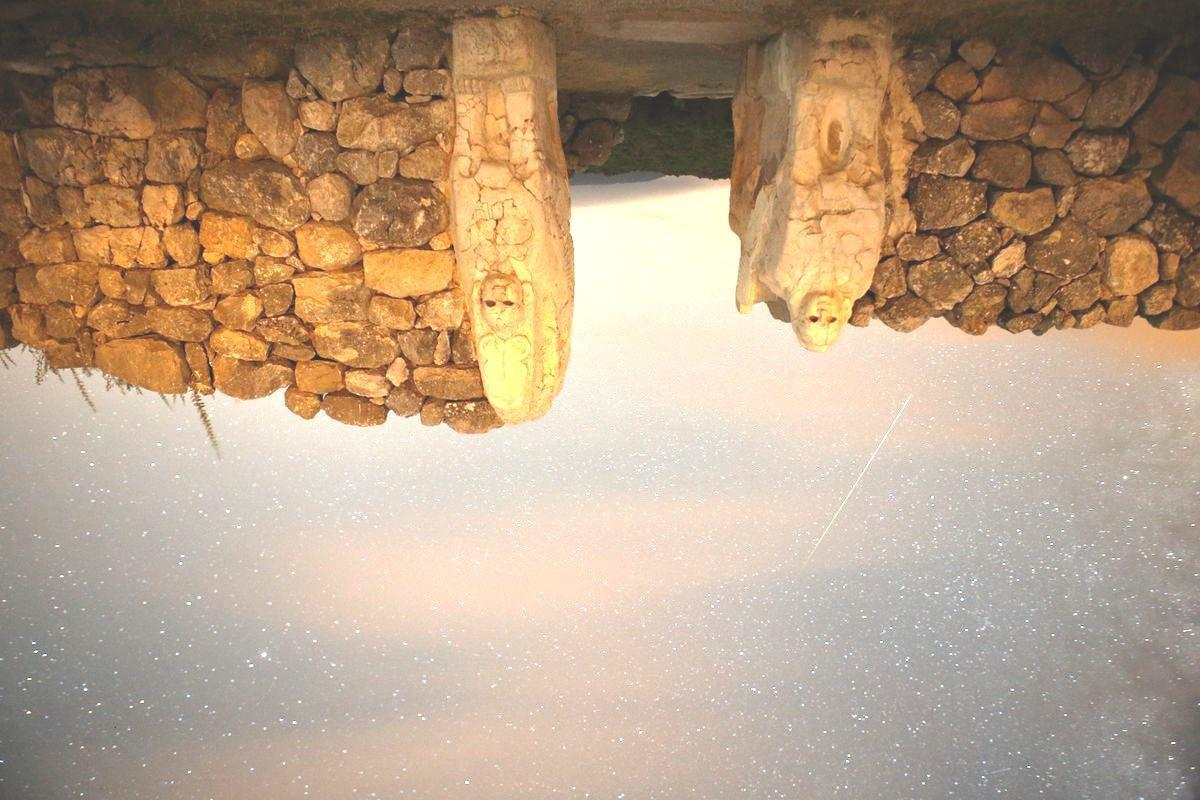meteorite: (803, 394, 932, 541)
